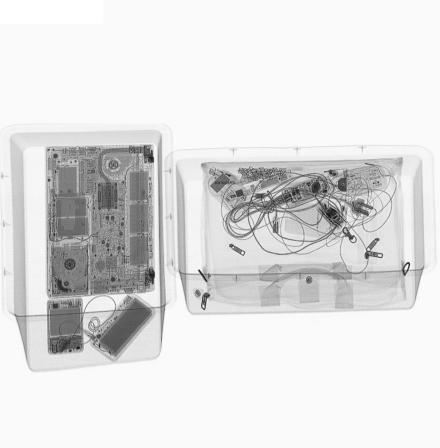Lighter: (208, 165, 245, 184)
